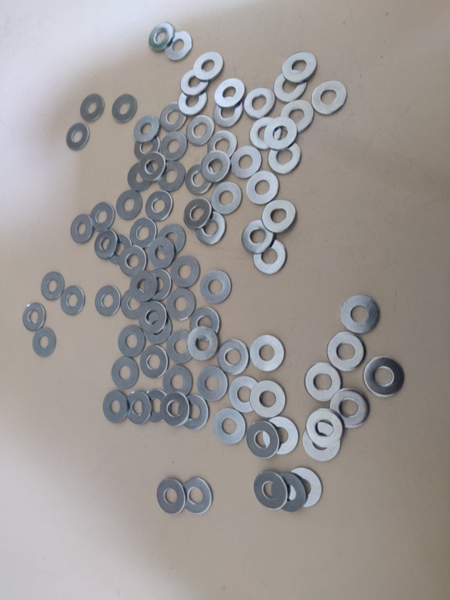circle: (363, 355, 406, 398), (329, 388, 371, 429), (303, 422, 344, 462), (304, 362, 343, 404), (327, 331, 367, 371), (341, 294, 381, 334), (286, 468, 323, 508), (250, 379, 287, 419), (253, 470, 290, 509), (306, 408, 345, 445), (271, 472, 306, 513), (246, 420, 282, 458), (250, 334, 286, 372), (311, 79, 349, 115), (241, 218, 278, 254), (252, 239, 289, 275), (263, 417, 298, 455), (272, 69, 310, 104), (279, 99, 317, 133), (246, 169, 281, 205), (267, 140, 303, 175), (177, 393, 210, 431), (228, 376, 262, 412), (165, 287, 199, 323), (164, 329, 198, 365), (262, 199, 298, 233), (248, 116, 284, 150), (181, 477, 214, 514), (213, 408, 246, 445), (187, 325, 220, 362), (217, 339, 251, 374), (157, 98, 191, 133), (200, 268, 233, 304), (282, 51, 319, 83), (229, 145, 263, 179), (265, 116, 299, 150), (160, 365, 195, 398), (141, 310, 174, 345), (160, 391, 192, 427), (157, 477, 188, 514), (192, 49, 226, 82), (197, 366, 229, 401), (141, 388, 171, 425), (157, 130, 190, 163), (138, 345, 170, 379), (118, 244, 150, 278), (197, 212, 229, 246), (155, 158, 187, 192), (243, 87, 277, 119), (109, 356, 141, 389), (177, 85, 209, 118), (211, 181, 243, 214), (184, 114, 216, 147), (212, 96, 244, 129), (190, 306, 221, 340), (206, 129, 240, 160), (170, 255, 201, 288), (146, 237, 177, 270), (214, 77, 247, 108), (93, 284, 123, 318), (118, 324, 147, 359), (157, 224, 187, 257), (164, 29, 194, 62), (129, 217, 158, 251), (125, 391, 153, 426), (185, 163, 215, 195), (102, 390, 130, 424), (183, 199, 214, 229), (130, 270, 159, 302), (88, 201, 117, 233), (134, 131, 163, 163), (110, 92, 138, 125), (128, 161, 156, 194), (106, 232, 133, 266), (180, 67, 211, 96), (139, 301, 167, 333), (146, 190, 174, 222), (59, 284, 86, 317), (121, 289, 149, 320), (148, 21, 175, 53), (139, 153, 168, 182), (133, 114, 162, 143), (32, 326, 58, 358), (93, 229, 119, 260), (70, 213, 95, 245), (79, 94, 105, 123), (22, 302, 47, 332), (41, 271, 66, 301), (65, 121, 90, 151), (117, 190, 142, 220)
